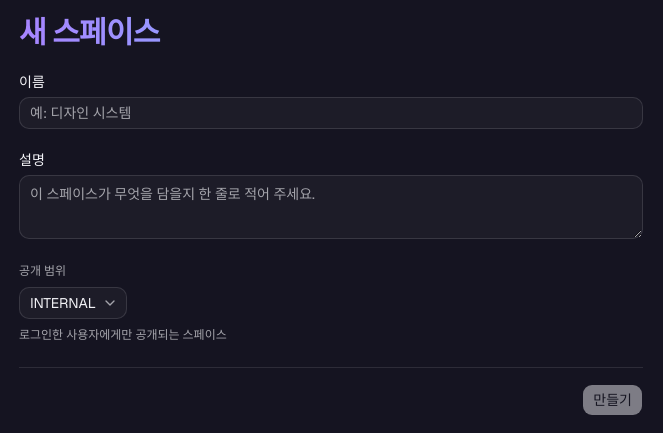
Test: NewSpaceView › 이름 또는 설명이 비어 있으면 만들기 버튼이 비활성화된다
Expected: the button "만들기" is disabled, x1=582 y1=384 x2=643 y2=416
Type "이름만" into the field labelled "이름".
click(331, 113); type("이름만")  # box x1=19 y1=97 x2=643 y2=129
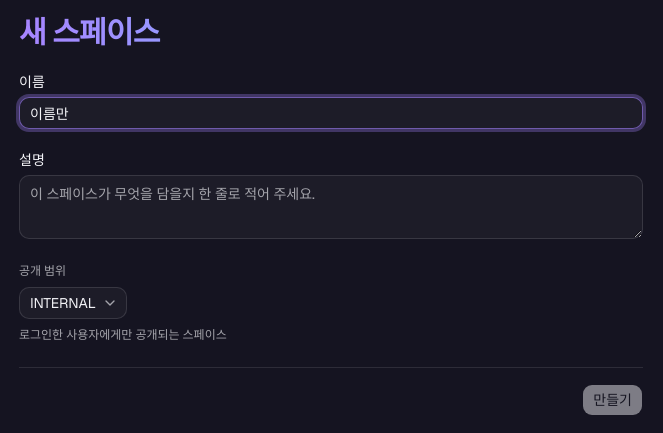
Expected: the button "만들기" is disabled, x1=582 y1=384 x2=643 y2=416
Type "설명 추가" into the text box labelled "설명".
click(331, 207); type("설명 추가")  # box x1=19 y1=175 x2=643 y2=239
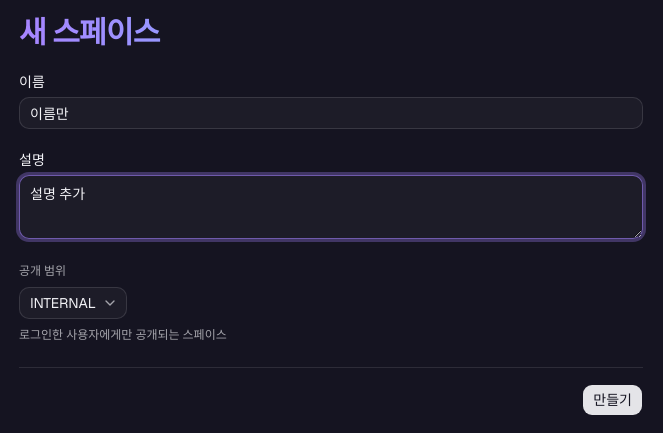
Expected: the button "만들기" is enabled, x1=582 y1=384 x2=643 y2=416
